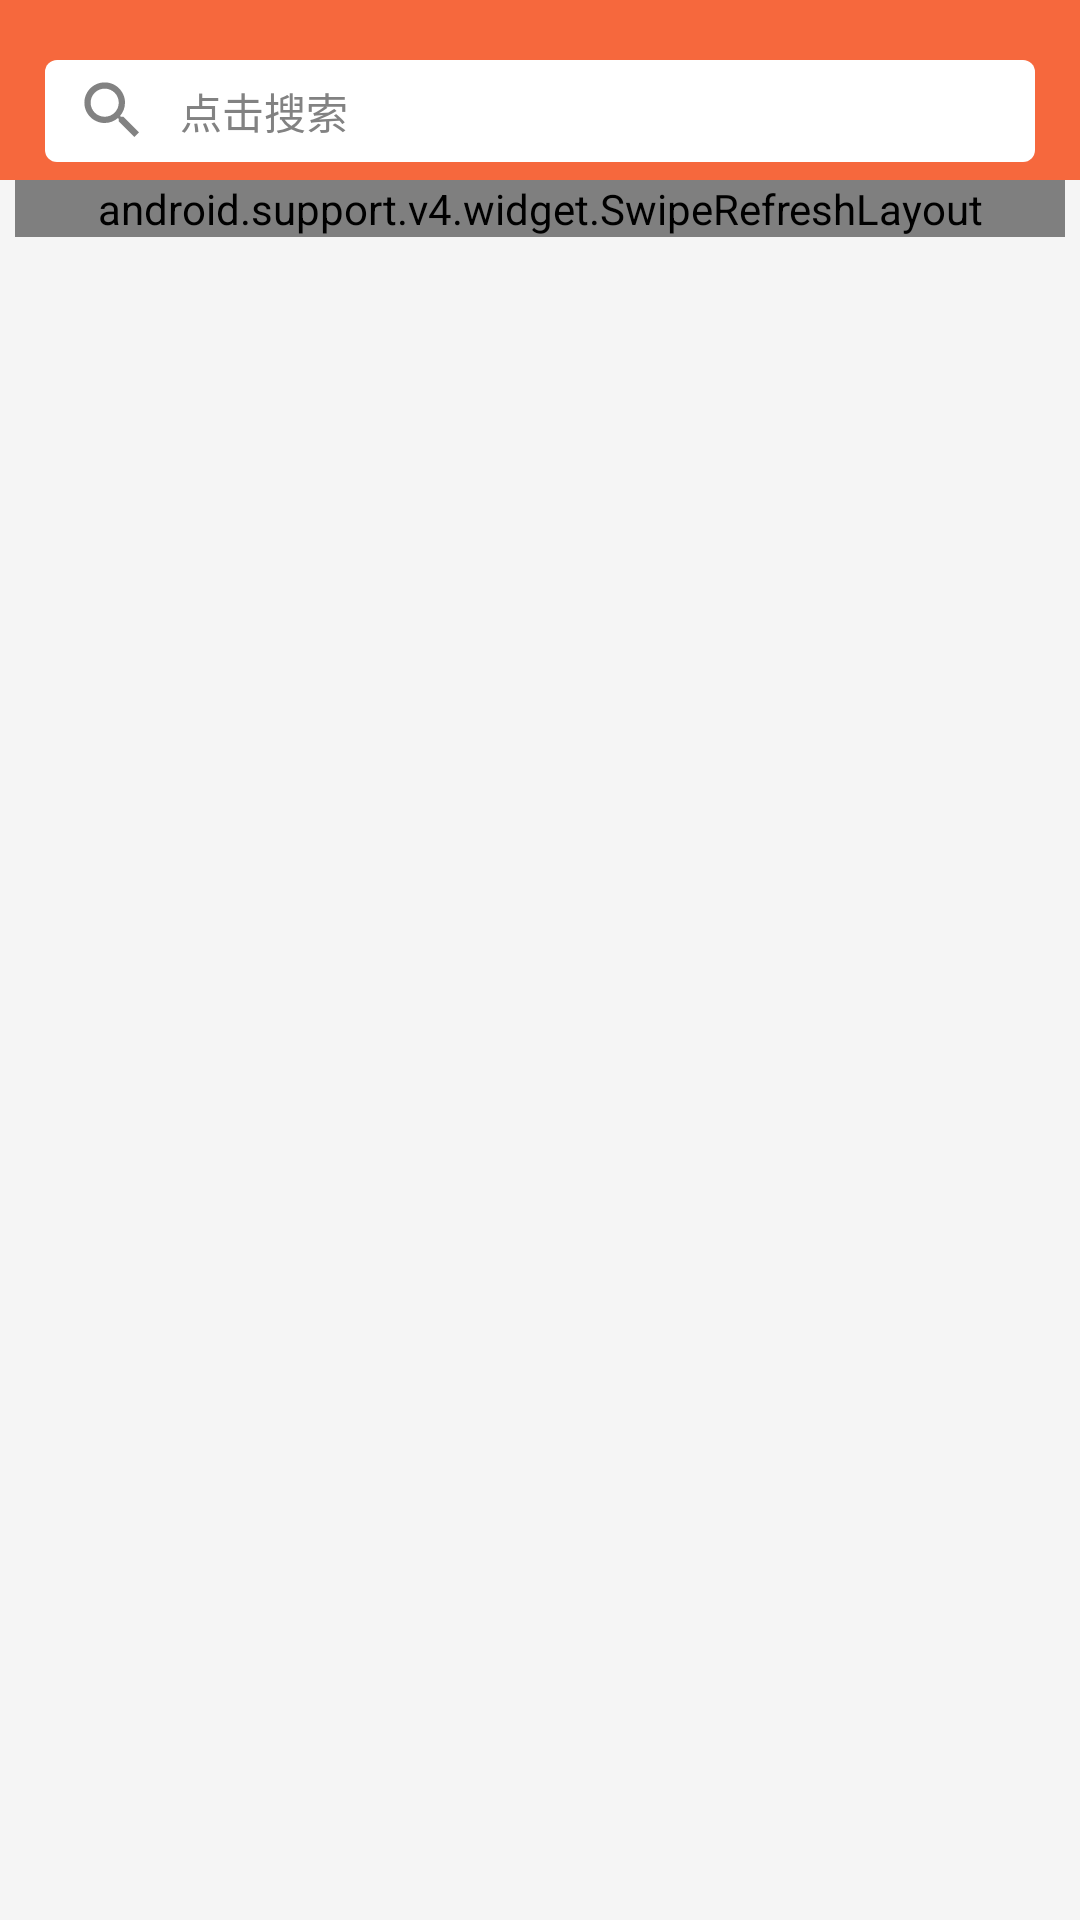

Icons on this 1080 x 1920 Android screen, each with its box as (x1, y1, x2, y2):
search: (84, 82, 139, 137)
